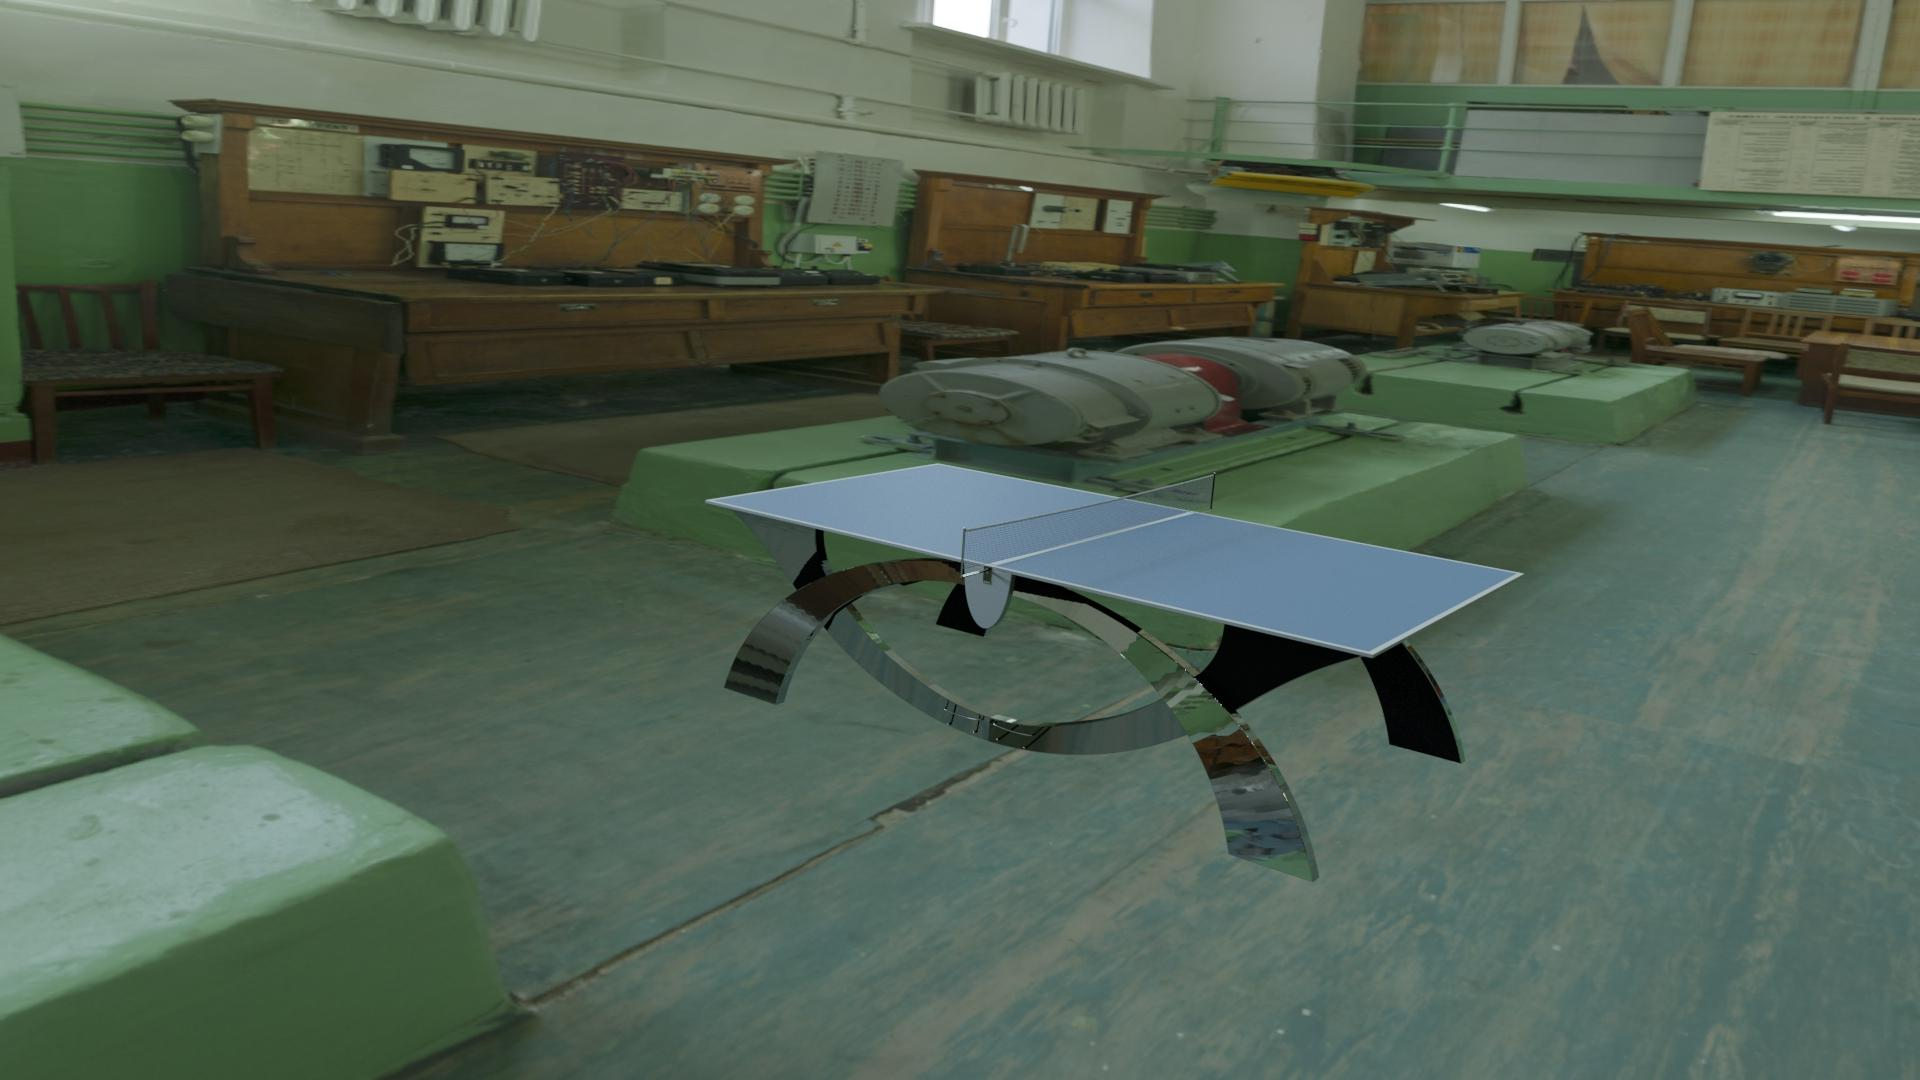table: (712, 464, 1516, 651)
